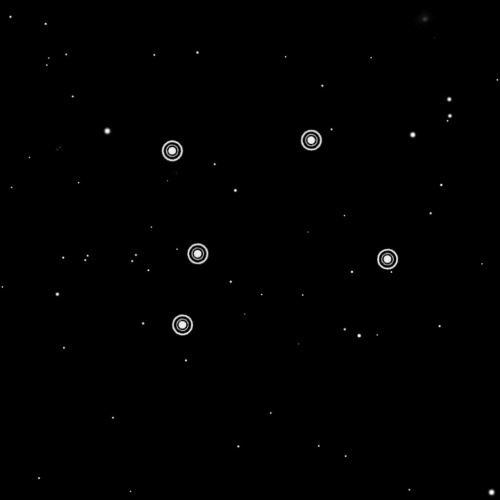libra: (154, 127, 404, 343)
